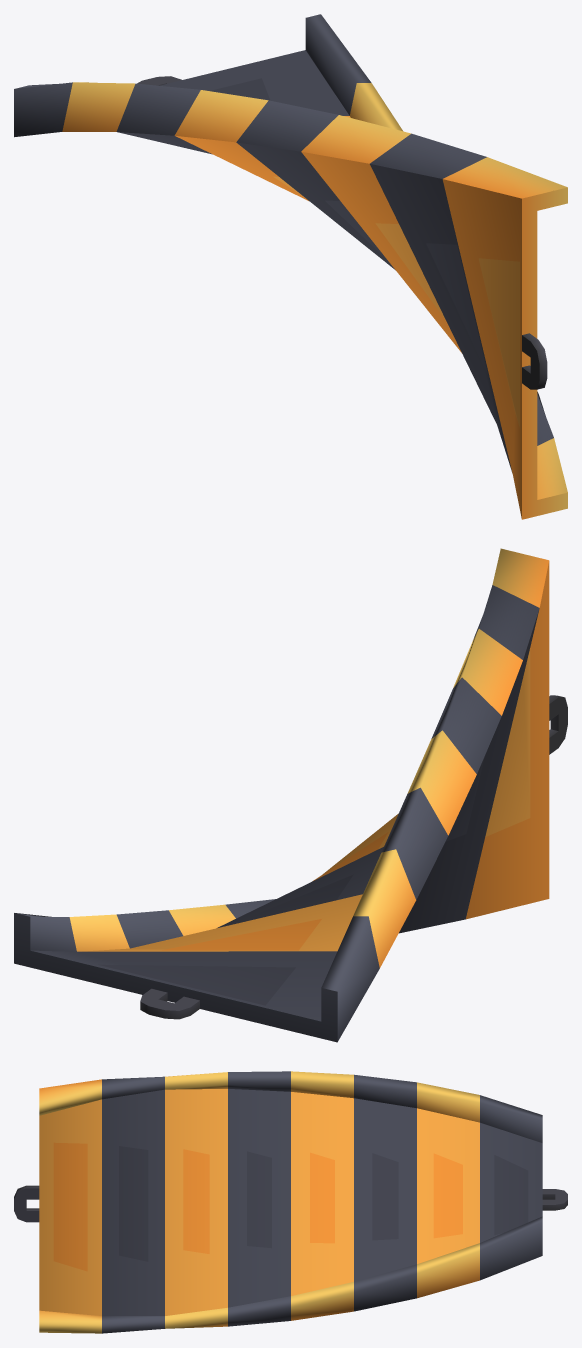
Rendered from track-striped-wide-straight-skew-left-side.fbx.
The picture shows the model from 3 angles, top to bottom: view 1: azimuth 30°, elevation 25°; view 2: azimuth 150°, elevation 25°; view 3: azimuth 270°, elevation 25°; orthographic projection. The views are drawn at different scales.
Visible parts, largest first — view 1: track-striped-wide-straight-skew-left-side; view 2: track-striped-wide-straight-skew-left-side; view 3: track-striped-wide-straight-skew-left-side.
Boxes of the visible parts, bbox=[...] form: track-striped-wide-straight-skew-left-side: bbox=[14, 14, 567, 519]; track-striped-wide-straight-skew-left-side: bbox=[14, 548, 567, 1042]; track-striped-wide-straight-skew-left-side: bbox=[14, 1071, 567, 1333].
Bounding box in the file's own units: 204 × 204 × 440.
